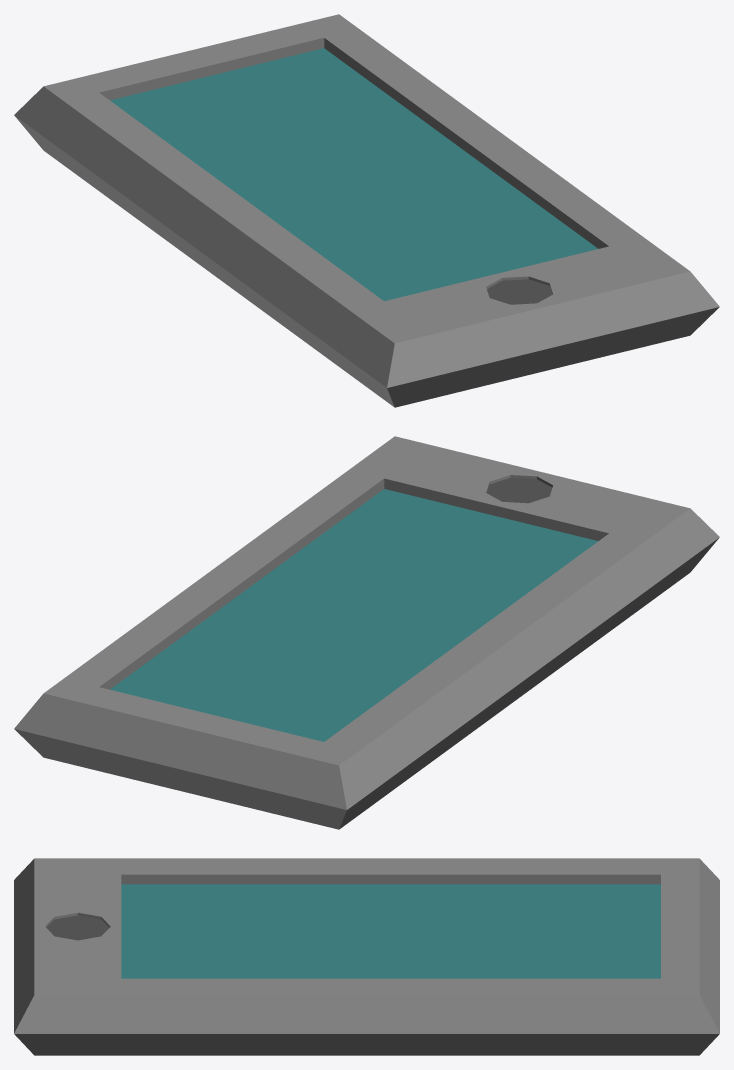
File: phone.gltf
3 renders of one model, top to bottom at view 1: azimuth 30°, elevation 25°; view 2: azimuth 150°, elevation 25°; view 3: azimuth 270°, elevation 25°, orthographic. The views are drawn at different scales.
Visible parts, largest first — view 1: Phone; view 2: Phone; view 3: Phone.
Part boxes in pixels (x1=…): Phone: x1=14, y1=14, x2=719, y2=407; Phone: x1=14, y1=436, x2=719, y2=829; Phone: x1=14, y1=858, x2=719, y2=1055.
Bounding box in the file's own units: 0.7979 × 0.147 × 1.55.
